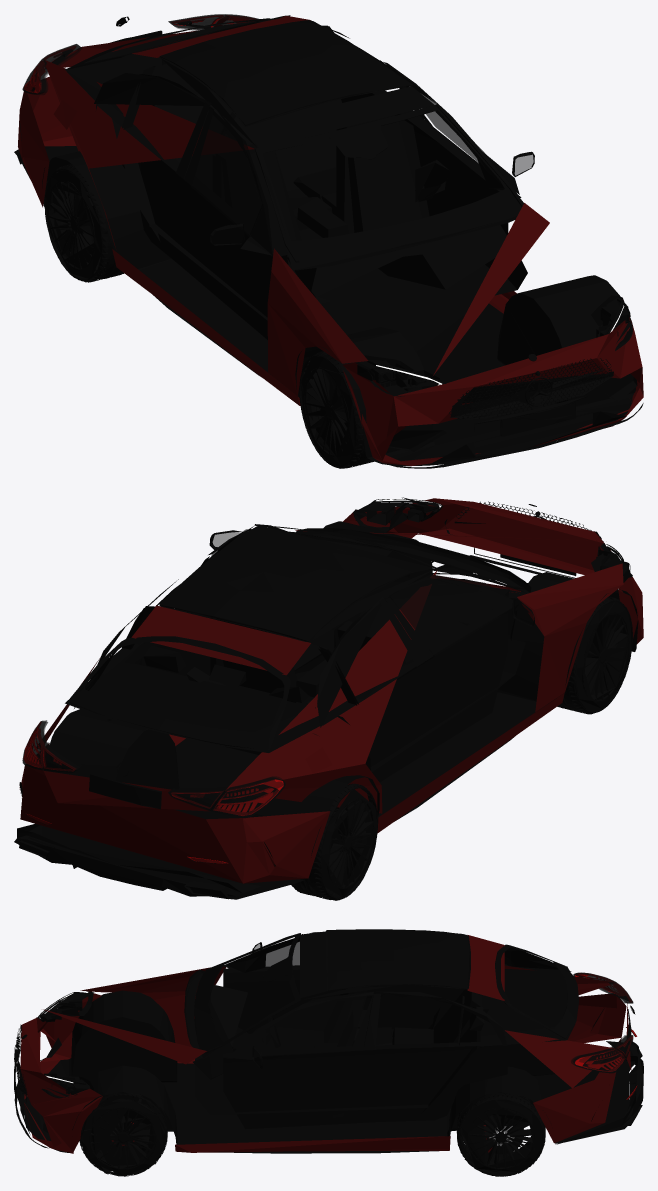
File: mersedez-c.glb
The picture shows the model from 3 angles, top to bottom: view 1: azimuth 30°, elevation 25°; view 2: azimuth 150°, elevation 25°; view 3: azimuth 270°, elevation 25°; orthographic projection. The views are drawn at different scales.
Parts seen in each view (by area): view 1: Mesh_4_Car Details_0, Mesh_18_Car Paint_0, Mesh_0_Glass_0, Mesh_7_Car Details_0; view 2: Mesh_4_Car Details_0, Mesh_18_Car Paint_0, Mesh_0_Glass_0, Mesh_2_Red Glass_0; view 3: Mesh_4_Car Details_0, Mesh_18_Car Paint_0, Mesh_0_Glass_0, Mesh_2_Red Glass_0.
Part boxes in pixels (x1,y1,x2,y2): Mesh_4_Car Details_0: [14, 15, 643, 468]; Mesh_18_Car Paint_0: [18, 15, 643, 465]; Mesh_0_Glass_0: [22, 14, 618, 386]; Mesh_7_Car Details_0: [450, 358, 611, 419]; Mesh_4_Car Details_0: [14, 497, 638, 900]; Mesh_18_Car Paint_0: [19, 498, 643, 883]; Mesh_0_Glass_0: [22, 510, 629, 863]; Mesh_2_Red Glass_0: [24, 723, 283, 863]; Mesh_4_Car Details_0: [14, 929, 643, 1176]; Mesh_18_Car Paint_0: [20, 934, 631, 1153]; Mesh_0_Glass_0: [51, 932, 636, 1099]; Mesh_2_Red Glass_0: [575, 974, 636, 1099].
Bounding box in the file's own units: 2.09 × 1.44 × 4.73.
